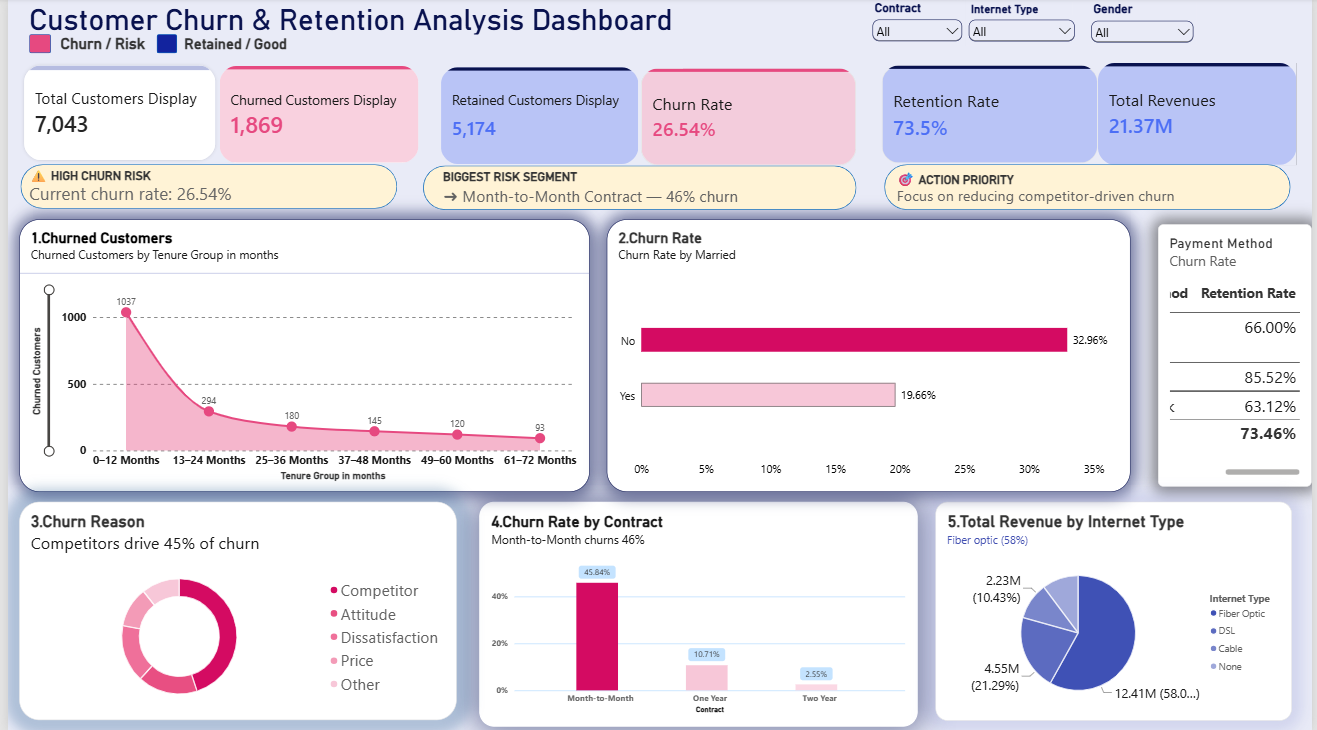

The page's visual inventory and layout, read from the dashboard file:
{"tool":"powerbi","page":{"name":"Churning & Retention Analysis","canvas":[1920,1080],"ordinal":0},"visuals":[{"type":"clusteredColumnChart","title":"4.Churn Rate by Contract","fields":{"Category":["customer churn services.Contract"],"Y":["Customer Churn Status.Churn Rate"]},"box":[694.5,741.8,645.5,330.9],"z":1},{"type":"lineChart","title":"1.Churned Customers","fields":{"Category":["customer churn services.Tenure Group in months"],"Y":["Customer Churn Status.Churned Customers"]},"box":[16.4,325.5,840,401.8],"z":3},{"type":"donutChart","title":"3.Churn Reason","fields":{"Category":["Customer Churn Status.Churn Category"],"Y":["Customer Churn Status.Churned Customers"]},"box":[16.4,741.8,643.6,321.8],"z":4},{"type":"tableEx","title":"Payment Method","fields":{"Values":["customer churn services.Payment Method","Customer Churn Status.Retention Rate"]},"box":[1671.2,333.1,226.4,386.5],"z":5},{"type":"cardVisual","fields":{"Data":["Customer Churn Status.Total Customers Display"]},"box":[18.4,93.9,292,150],"z":7},{"type":"cardVisual","fields":{"Data":["Customer Churn Status.Churned Customers Display"]},"box":[311,99.4,294,144],"z":8},{"type":"cardVisual","fields":{"Data":["Customer Churn Status.Retained Customers Display"]},"box":[636.8,101.2,292,144],"z":9},{"type":"cardVisual","fields":{"Data":["Customer Churn Status.Churn Rate"]},"box":[931.3,103.1,318,144],"z":10},{"type":"cardVisual","fields":{"Data":["Customer Churn Status.Retention Rate"]},"box":[1286.5,99.4,318,144],"z":11},{"type":"cardVisual","fields":{"Data":["customer churn services.Total Revenues"]},"box":[1604.9,95.7,292,150],"z":12},{"type":"shape","box":[219,53.4,30,28],"z":13},{"type":"shape","box":[30.9,52.7,32,28],"z":14},{"type":"textbox","title":"Churn / Risk","box":[77.3,53.4,141.7,29.4],"z":17},{"type":"textbox","title":"Retained / Good","box":[259.5,55.2,176.7,38.7],"z":18},{"type":"textbox","title":"Customer Churn & Retention Analysis Dashboard","box":[31.3,7.4,960,46],"z":21},{"type":"pieChart","title":"5.Total Revenue by Internet Type","fields":{"Category":["customer churn services.Internet Type"],"Y":["customer churn services.Total Revenues"]},"box":[1365.7,741.7,524.5,322.1],"z":22},{"type":"clusteredBarChart","title":"2.Churn Rate","fields":{"Category":["customer churn demographics.Married"],"Y":["Customer Churn Status.Churn Rate"]},"box":[881.6,325.8,771.2,401.2],"z":23},{"type":"shape","box":[18.2,245.5,554.5,65.5],"z":24},{"type":"shape","box":[610.9,247.3,638.2,65.5],"z":25},{"type":"shape","box":[1290.9,245.5,598.2,67.3],"z":26},{"type":"textbox","title":"⚠️ HIGH CHURN RISK ","box":[30.9,247.3,523.6,63.6],"z":27},{"type":"textbox","title":"BIGGEST RISK SEGMENT ","box":[640,252.7,629.1,52.7],"z":28},{"type":"textbox","title":"🎯 ACTION PRIORITY","box":[1309.1,252.7,567.3,52.7],"z":29},{"type":"slicer","fields":{"Values":["customer churn services.Contract"]},"box":[1268.1,3.7,141.7,64.4],"z":30},{"type":"slicer","fields":{"Values":["customer churn services.Internet Type"]},"box":[1409.8,5.5,165.6,64.4],"z":31},{"type":"slicer","fields":{"Values":["customer churn demographics.Gender"]},"box":[1590.2,5.5,160.1,64.4],"z":32}]}

Visuals, with their boxes in screenshot pixels (x1, y1, x2, y2), scaled from the page's 1920x1080 canvas onto the 1317x730 screenshot:
"4.Churn Rate by Contract" clusteredColumnChart: {"left": 476, "top": 501, "right": 919, "bottom": 725}
"1.Churned Customers" lineChart: {"left": 11, "top": 220, "right": 587, "bottom": 492}
"3.Churn Reason" donutChart: {"left": 11, "top": 501, "right": 453, "bottom": 719}
"Payment Method" tableEx: {"left": 1146, "top": 225, "right": 1302, "bottom": 486}
cardVisual - Customer Churn Status.Total Customers Display: {"left": 13, "top": 63, "right": 213, "bottom": 165}
cardVisual - Customer Churn Status.Churned Customers Display: {"left": 213, "top": 67, "right": 415, "bottom": 165}
cardVisual - Customer Churn Status.Retained Customers Display: {"left": 437, "top": 68, "right": 637, "bottom": 166}
cardVisual - Customer Churn Status.Churn Rate: {"left": 639, "top": 70, "right": 857, "bottom": 167}
cardVisual - Customer Churn Status.Retention Rate: {"left": 882, "top": 67, "right": 1101, "bottom": 165}
cardVisual - customer churn services.Total Revenues: {"left": 1101, "top": 65, "right": 1301, "bottom": 166}
shape: {"left": 150, "top": 36, "right": 171, "bottom": 55}
shape: {"left": 21, "top": 36, "right": 43, "bottom": 55}
"Churn / Risk" textbox: {"left": 53, "top": 36, "right": 150, "bottom": 56}
"Retained / Good" textbox: {"left": 178, "top": 37, "right": 299, "bottom": 63}
"Customer Churn & Retention Analysis Dashboard" textbox: {"left": 21, "top": 5, "right": 680, "bottom": 36}
"5.Total Revenue by Internet Type" pieChart: {"left": 937, "top": 501, "right": 1297, "bottom": 719}
"2.Churn Rate" clusteredBarChart: {"left": 605, "top": 220, "right": 1134, "bottom": 491}
shape: {"left": 12, "top": 166, "right": 393, "bottom": 210}
shape: {"left": 419, "top": 167, "right": 857, "bottom": 211}
shape: {"left": 885, "top": 166, "right": 1296, "bottom": 211}
"⚠️ HIGH CHURN RISK " textbox: {"left": 21, "top": 167, "right": 380, "bottom": 210}
"BIGGEST RISK SEGMENT " textbox: {"left": 439, "top": 171, "right": 871, "bottom": 206}
"🎯 ACTION PRIORITY" textbox: {"left": 898, "top": 171, "right": 1287, "bottom": 206}
slicer - customer churn services.Contract: {"left": 870, "top": 3, "right": 967, "bottom": 46}
slicer - customer churn services.Internet Type: {"left": 967, "top": 4, "right": 1081, "bottom": 47}
slicer - customer churn demographics.Gender: {"left": 1091, "top": 4, "right": 1201, "bottom": 47}
